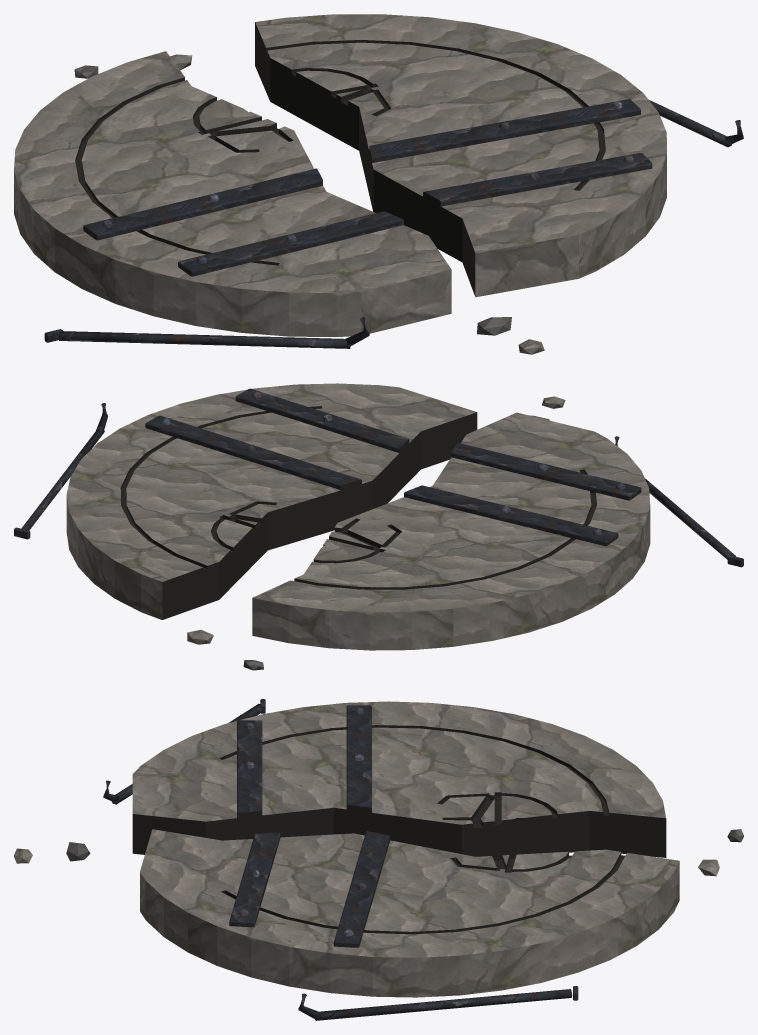
The model's file is th_door_fallen.glb.
The picture shows the model from 3 angles, top to bottom: view 1: azimuth 30°, elevation 25°; view 2: azimuth 150°, elevation 25°; view 3: azimuth 270°, elevation 25°; orthographic projection. The views are drawn at different scales.
Visible parts, largest first — view 1: model; view 2: model; view 3: model.
Boxes of the visible parts, x1,y1,x2,y2 form: model: (14, 14, 743, 354); model: (14, 383, 743, 670); model: (14, 699, 743, 1020).
Size of the model in its own units: 2.05 by 0.1513 by 2.
5 materials, 4 textured.
